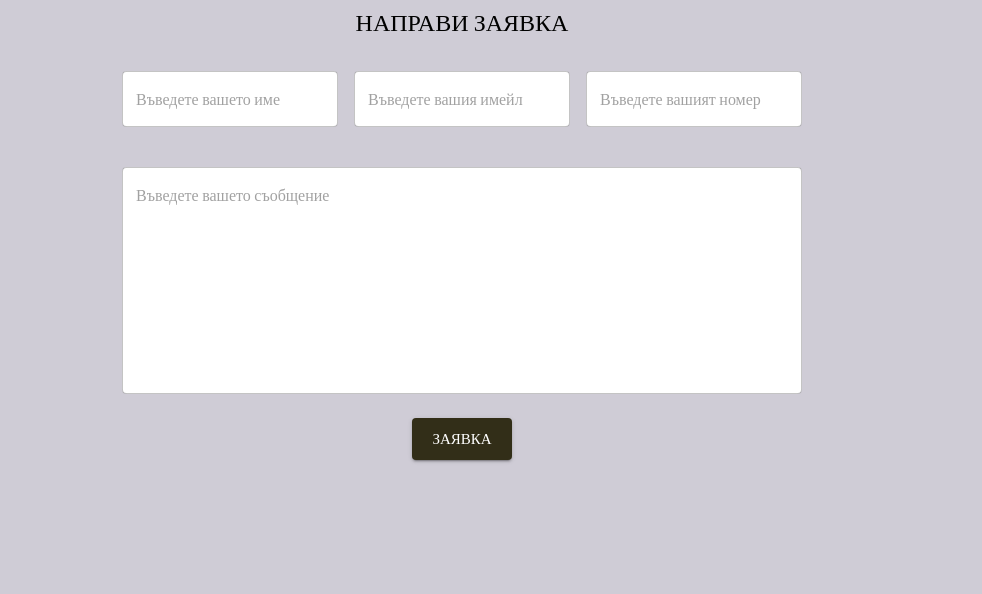
Test: ContactForm › should validate form fields
Type "D" into the field with test id "name-input" at (230, 99), box [122, 71, 338, 127]
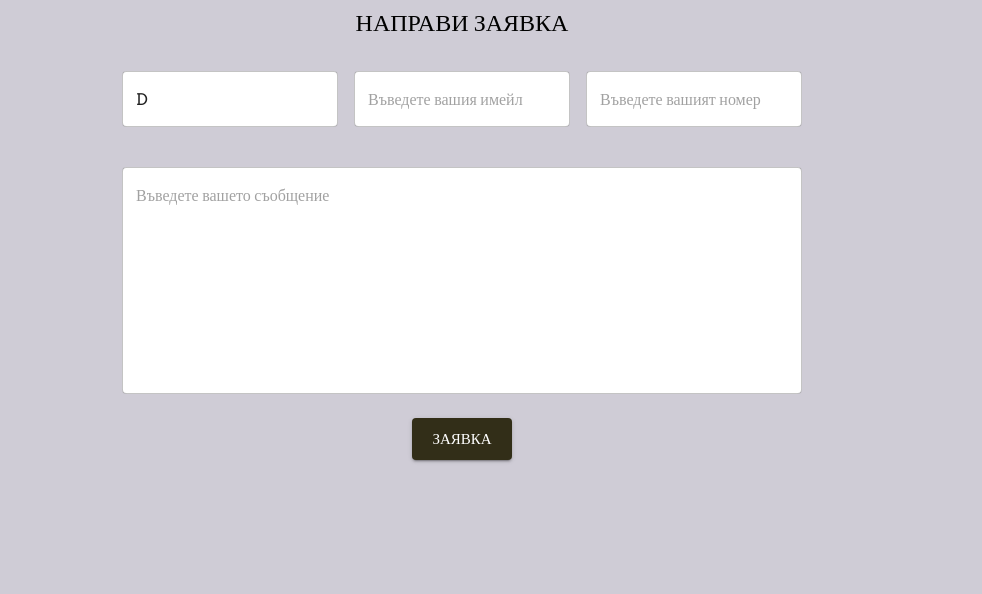
Type "hello" into the field with test id "email-input" at (462, 99), box [354, 71, 570, 127]
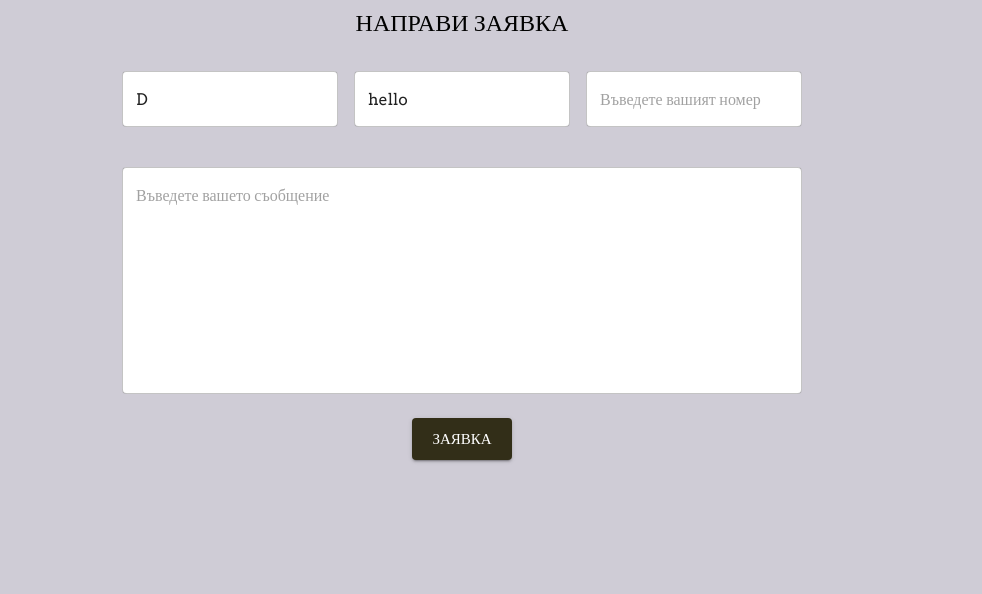
Type "hello" into the field with test id "phone-input" at (694, 99), box [586, 71, 802, 127]
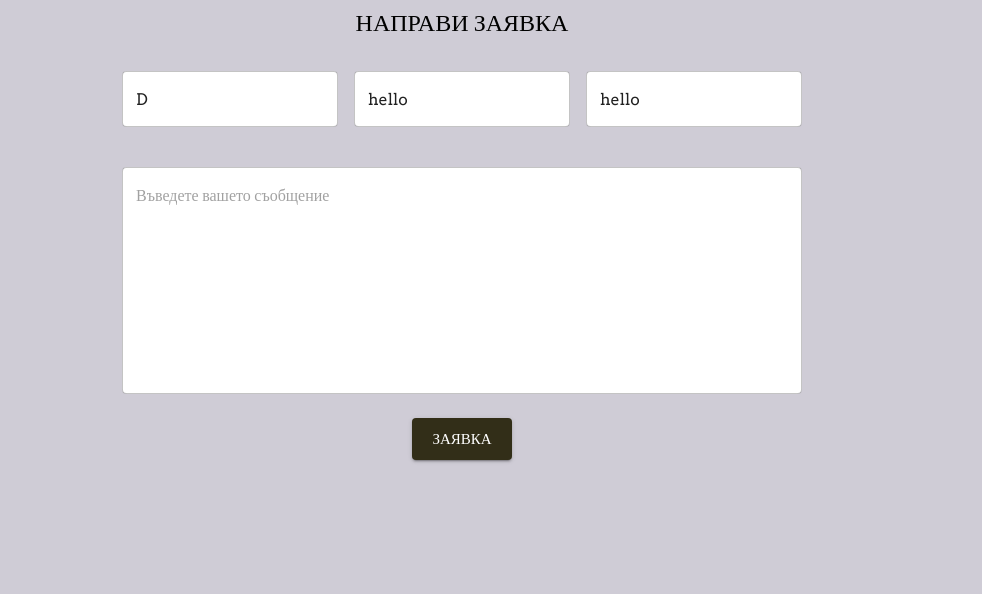
Submit the form from the button, box [412, 418, 512, 460]
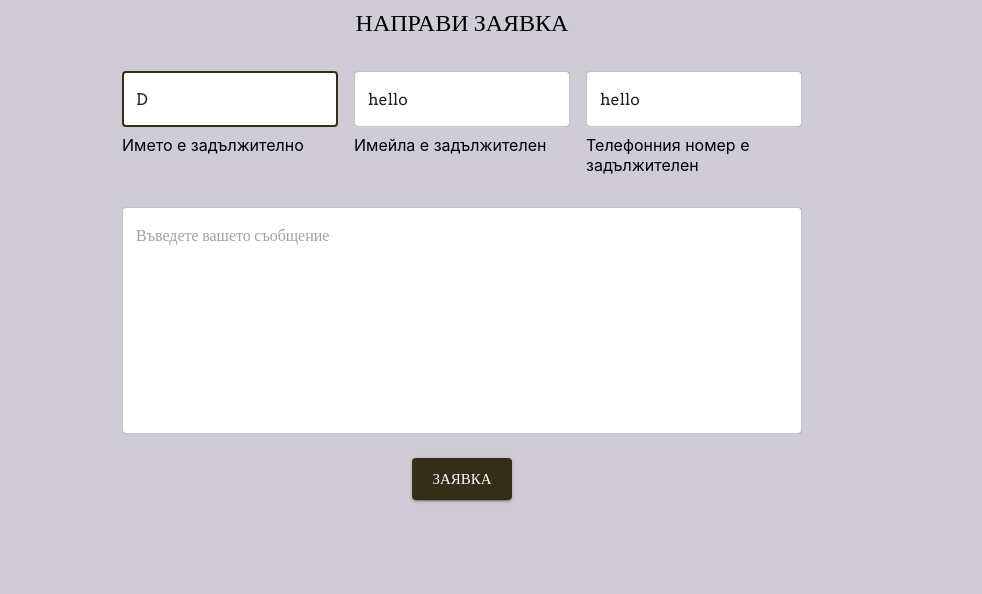
Result: the number of messages is 3 at [122, 135, 304, 155]; [354, 135, 546, 155]; [586, 135, 750, 175]
